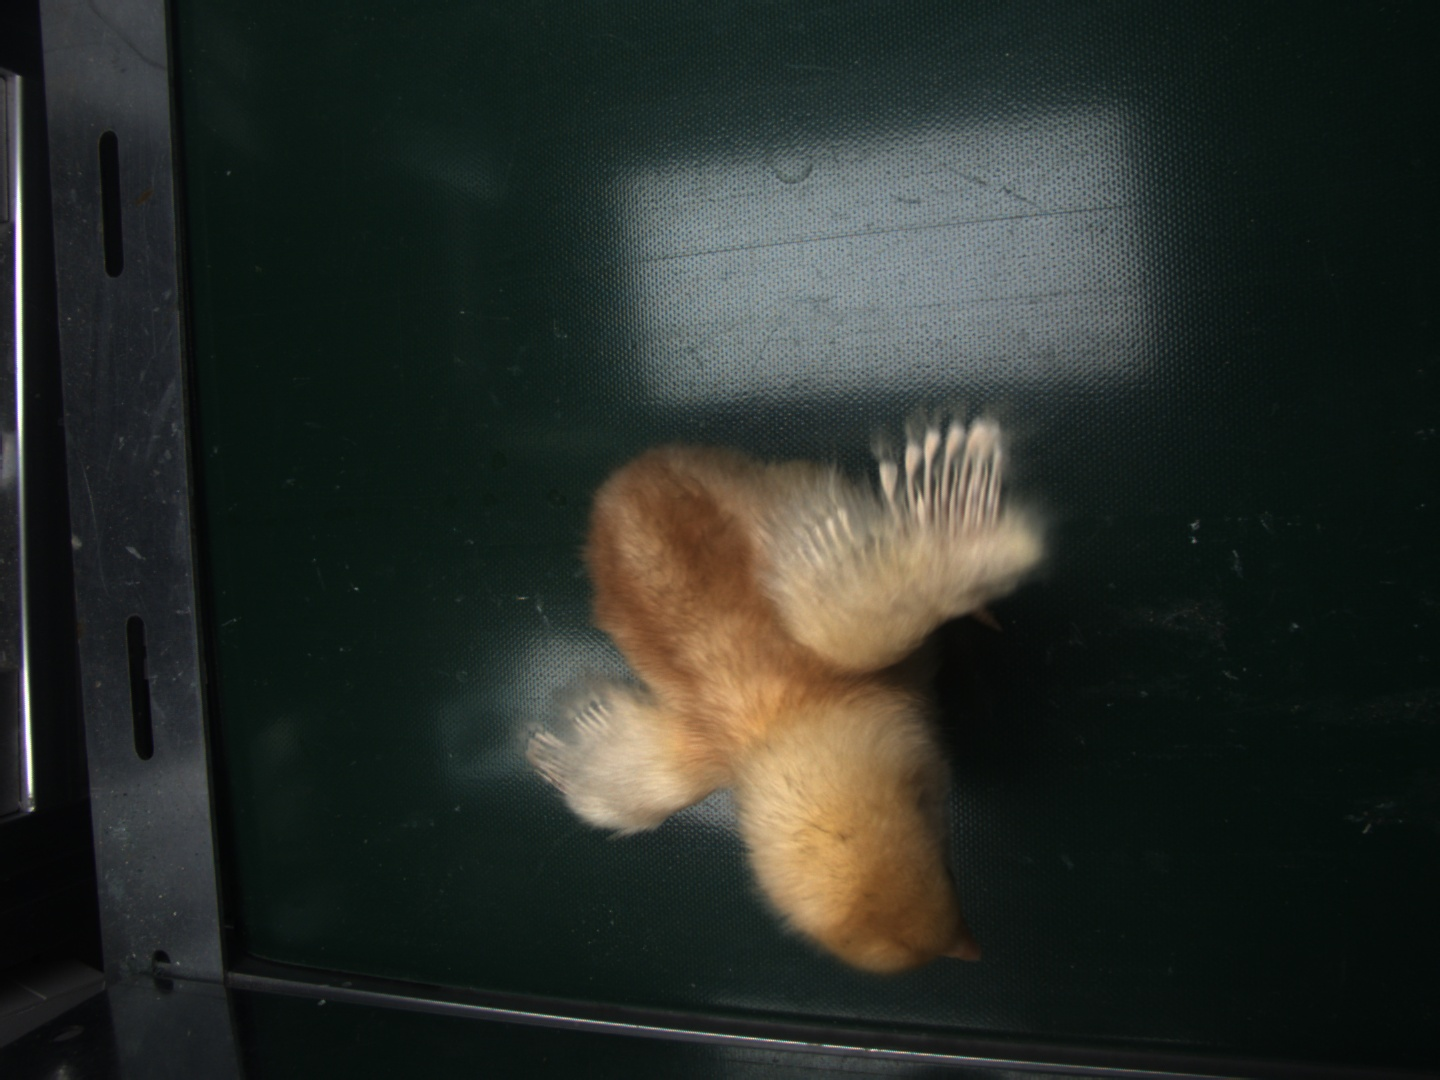female: (886, 420, 1003, 520)
